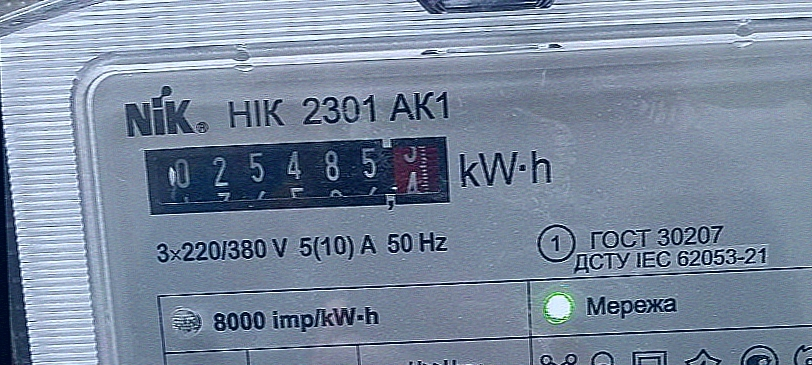0: (171, 152, 193, 188)
2: (210, 151, 231, 186)
4: (283, 145, 305, 179), (403, 166, 423, 195)
5: (358, 141, 380, 179), (246, 146, 267, 182)
8: (322, 143, 343, 182)
screen: (135, 125, 460, 224)
